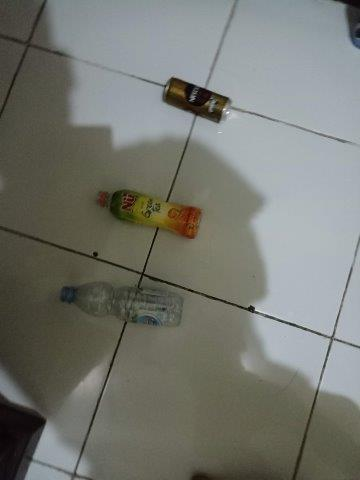botolplastik: (60, 282, 181, 327), (96, 189, 202, 239)
kaleng: (162, 77, 231, 124)
